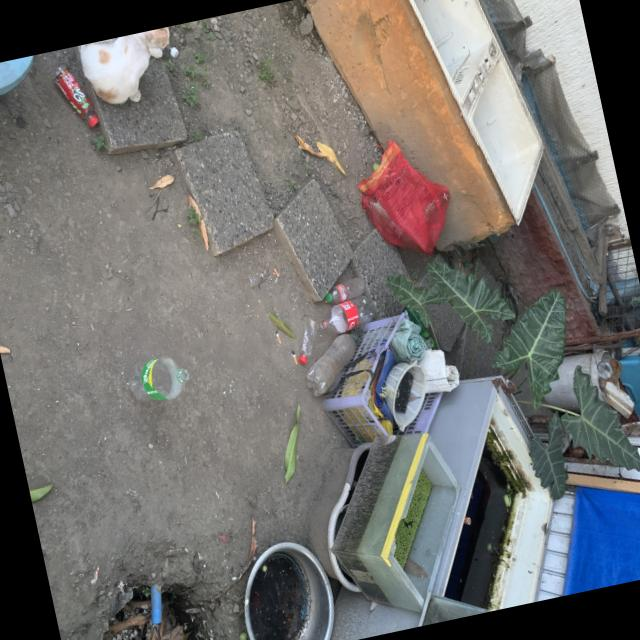Bottle: (127, 355, 189, 399)
